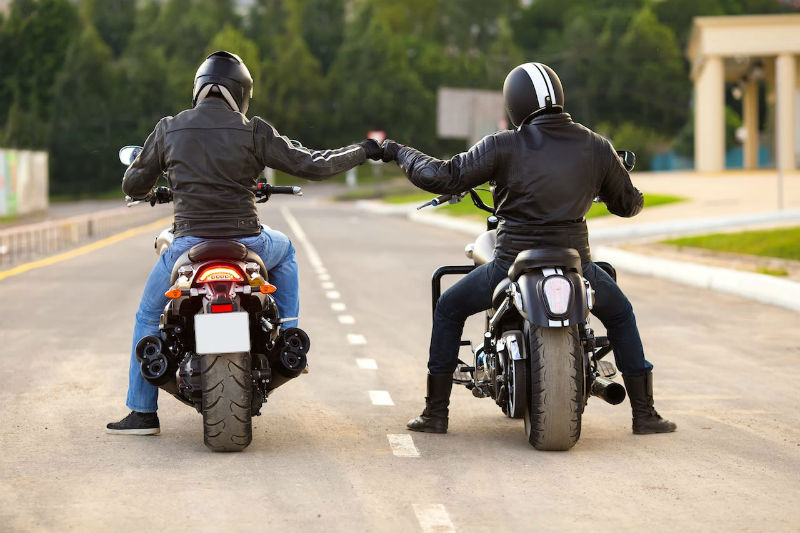helmet: (503, 62, 567, 126), (191, 51, 250, 116)
motorcycle: (138, 240, 309, 458), (462, 234, 626, 450)
